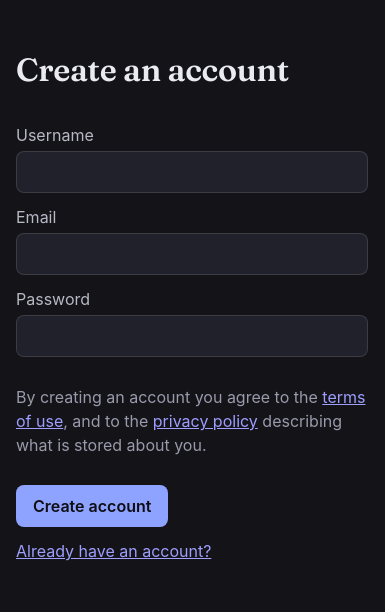
it: RegisterPage › surfaces a taken username and keeps the person on the form
Expected: the heading "Create an account" is shown, [16,50,289,90]
In the field labelled "Username": [192, 172] box [16,151,368,193], type "newcomer"
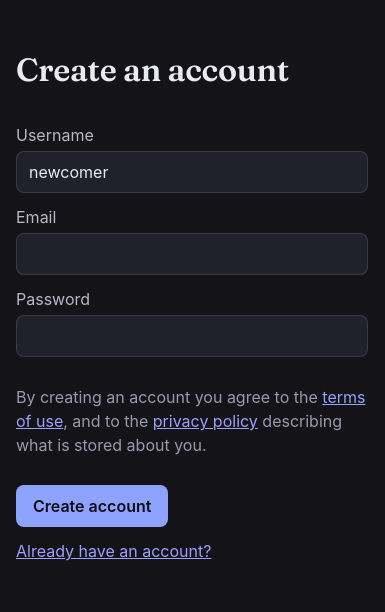
In the field labelled "Email": [192, 254] box [16,233,368,275], type "newcomer@example.com"
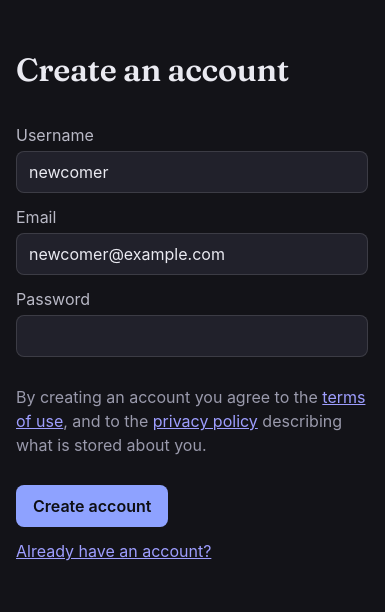
In the password field labelled "Password": [192, 336] box [16,315,368,357], type "pw-123456"
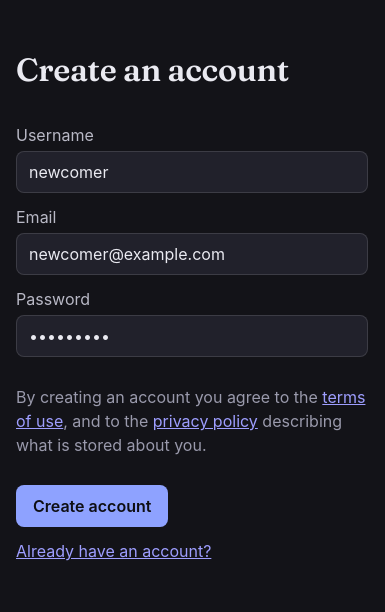
Click the button "Create account": [92, 506] box [16,485,168,527]
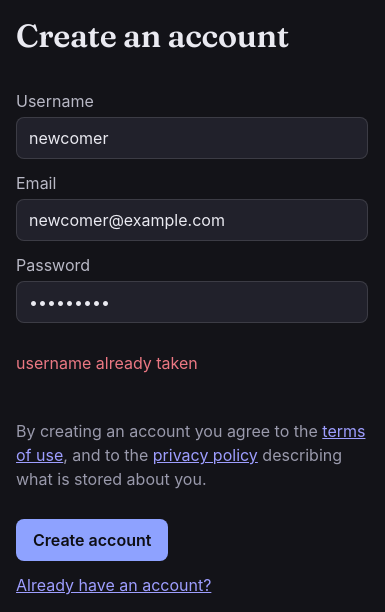
Expected: the heading "Create an account" is shown, [16,16,289,56]
Expected: the message shows "already taken", [16,353,198,373]
